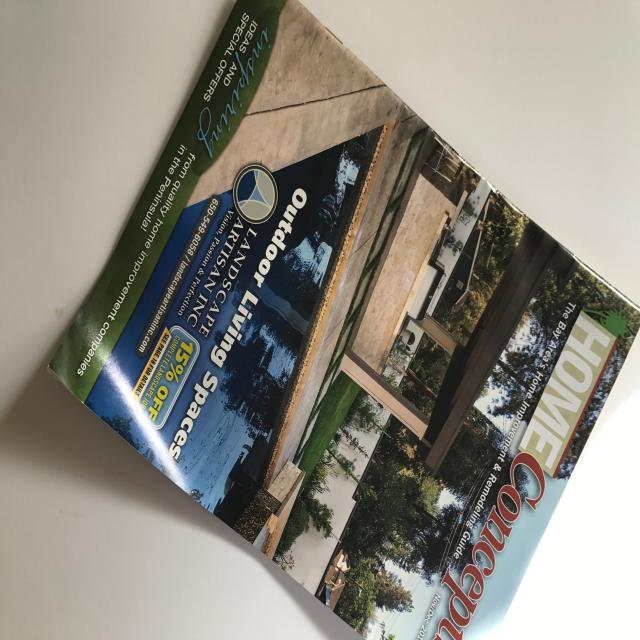paper: (3, 0, 639, 639)
